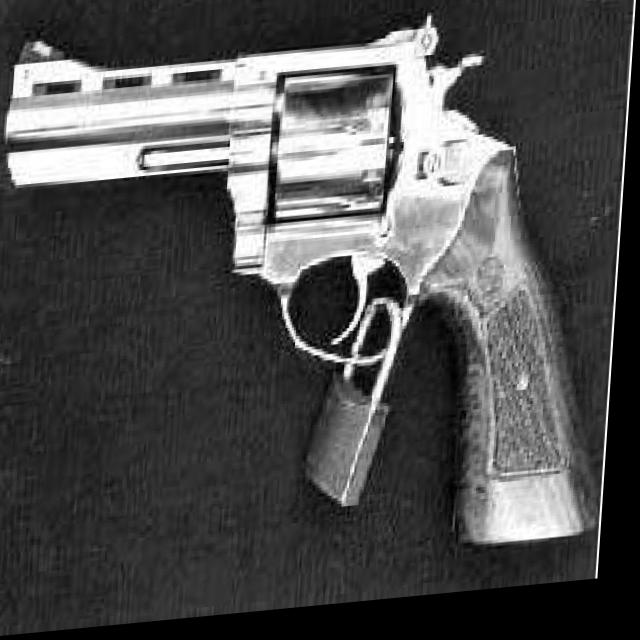handgun: (0, 0, 636, 597)
